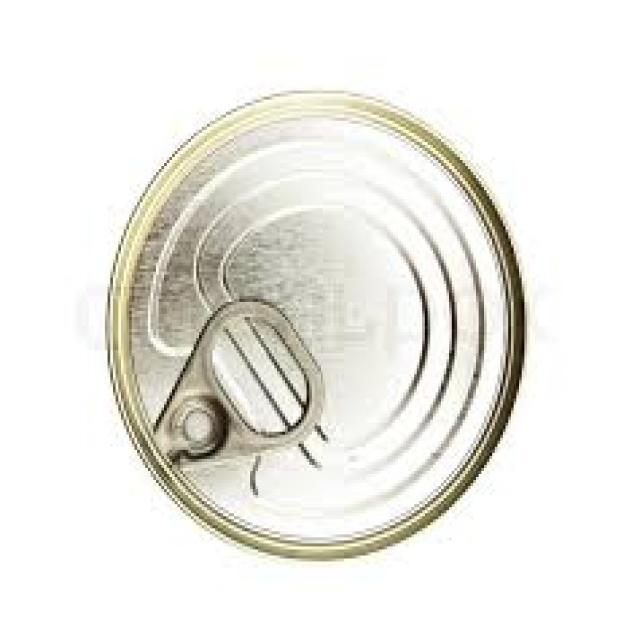can: (105, 90, 522, 568)
